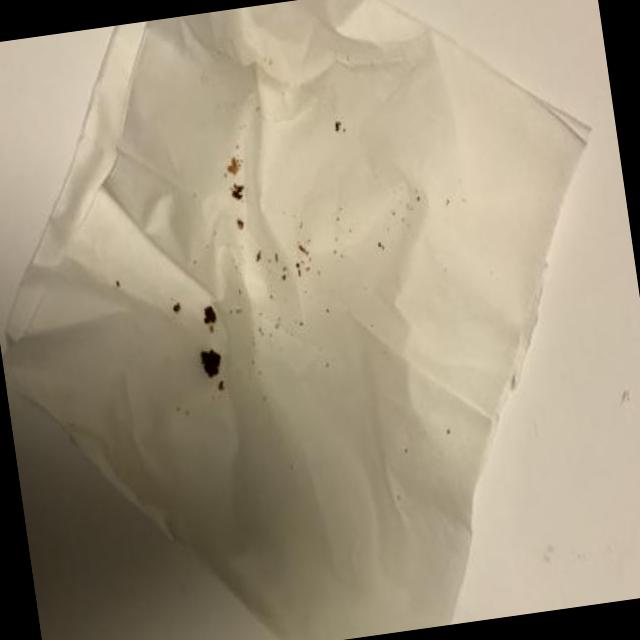giay: (2, 0, 588, 640)
